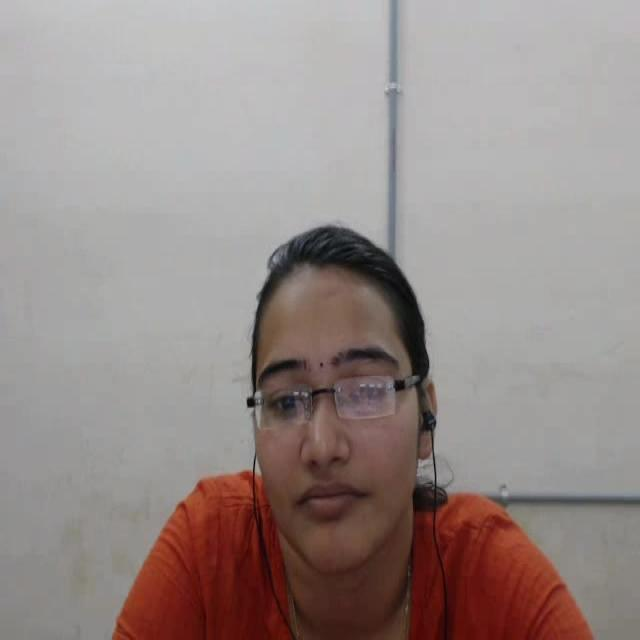Engaged: (210, 192, 482, 598)
